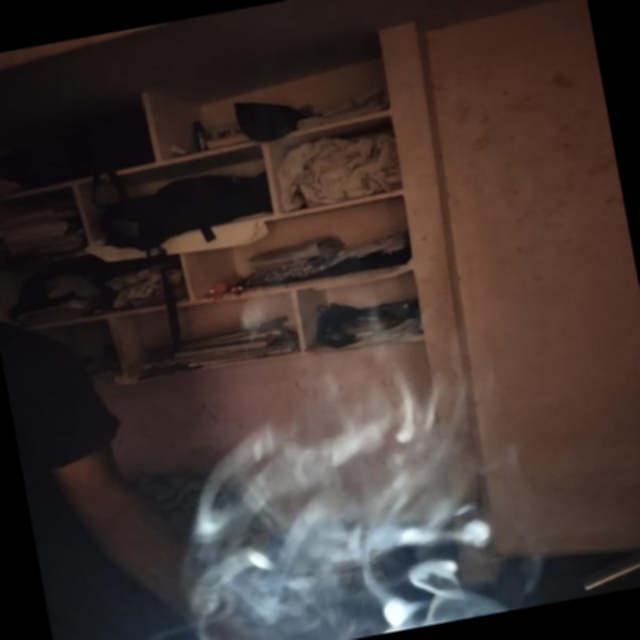smoke: (172, 367, 493, 636)
